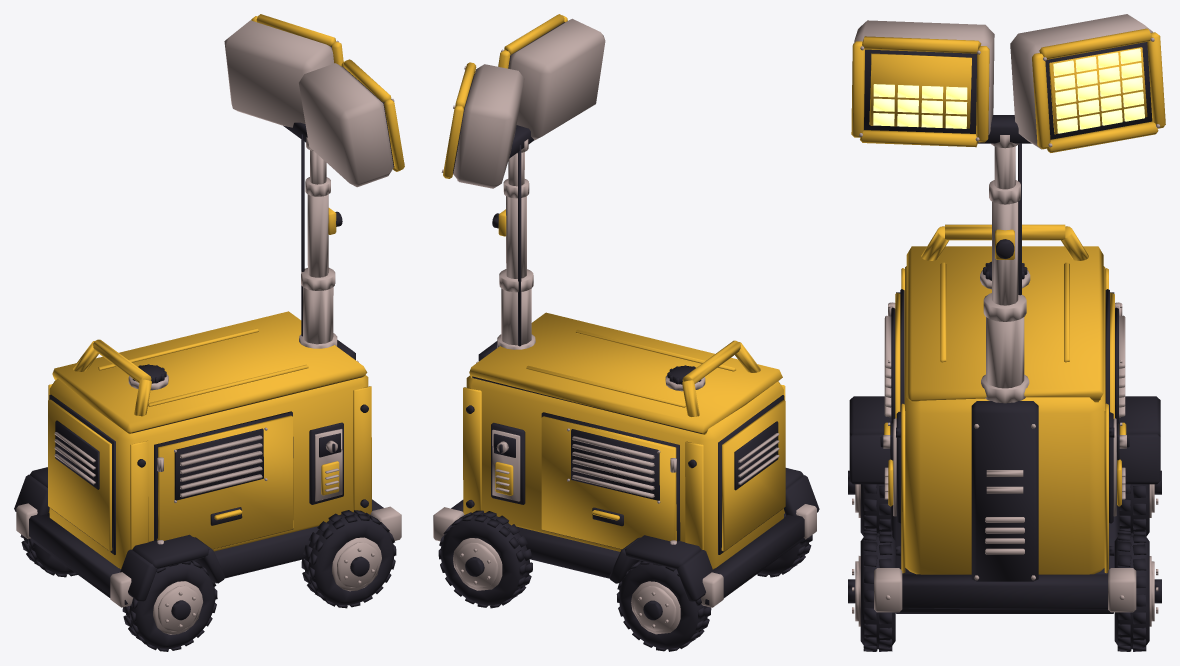
The model's file is prop.light-tower.lod1.glb.
The picture shows the model from 3 angles, left to right: view 1: azimuth 30°, elevation 25°; view 2: azimuth 150°, elevation 25°; view 3: azimuth 270°, elevation 25°; orthographic projection. The views are drawn at different scales.
Visible parts, largest first — view 1: object 4, body, wheelFL; view 2: object 4, body, wheelFR; view 3: object 4, body, wheelFL, wheelFR.
Boxes of the visible parts, x1,y1,x2,y2 form: object 4: [14, 14, 404, 651]; body: [48, 208, 371, 568]; wheelFL: [301, 510, 396, 608]; object 4: [433, 14, 819, 651]; body: [463, 209, 785, 569]; wheelFR: [438, 510, 532, 608]; object 4: [848, 14, 1165, 613]; body: [888, 224, 1121, 574]; wheelFL: [848, 530, 895, 651]; wheelFR: [1114, 530, 1161, 651].
Size of the model in its own units: 2.55 by 4.15 by 1.9.
